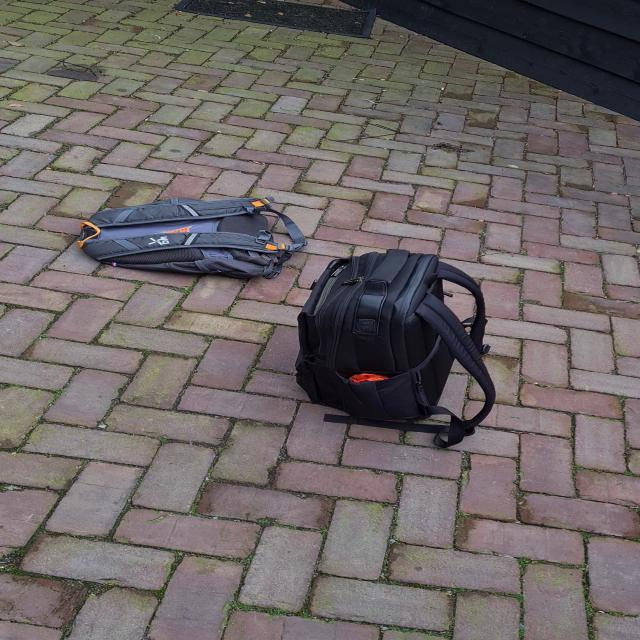backpack: (287, 247, 496, 446), (73, 196, 313, 280)
